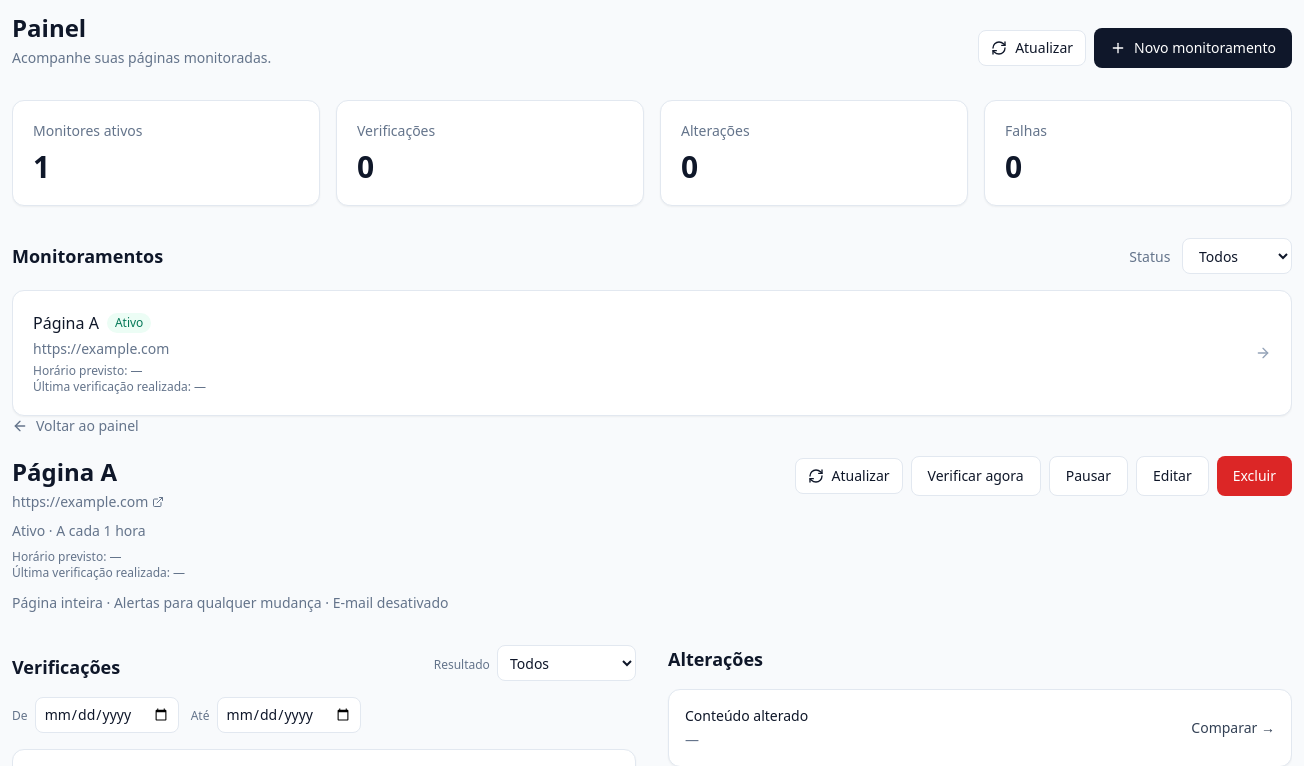
Test case: automatic refresh › removes a deleted monitor from the dashboard
The width and height of the screenshot is (1304, 766).
Step 1. Click the button "Excluir" → (1254, 476), box [1217, 456, 1292, 496]
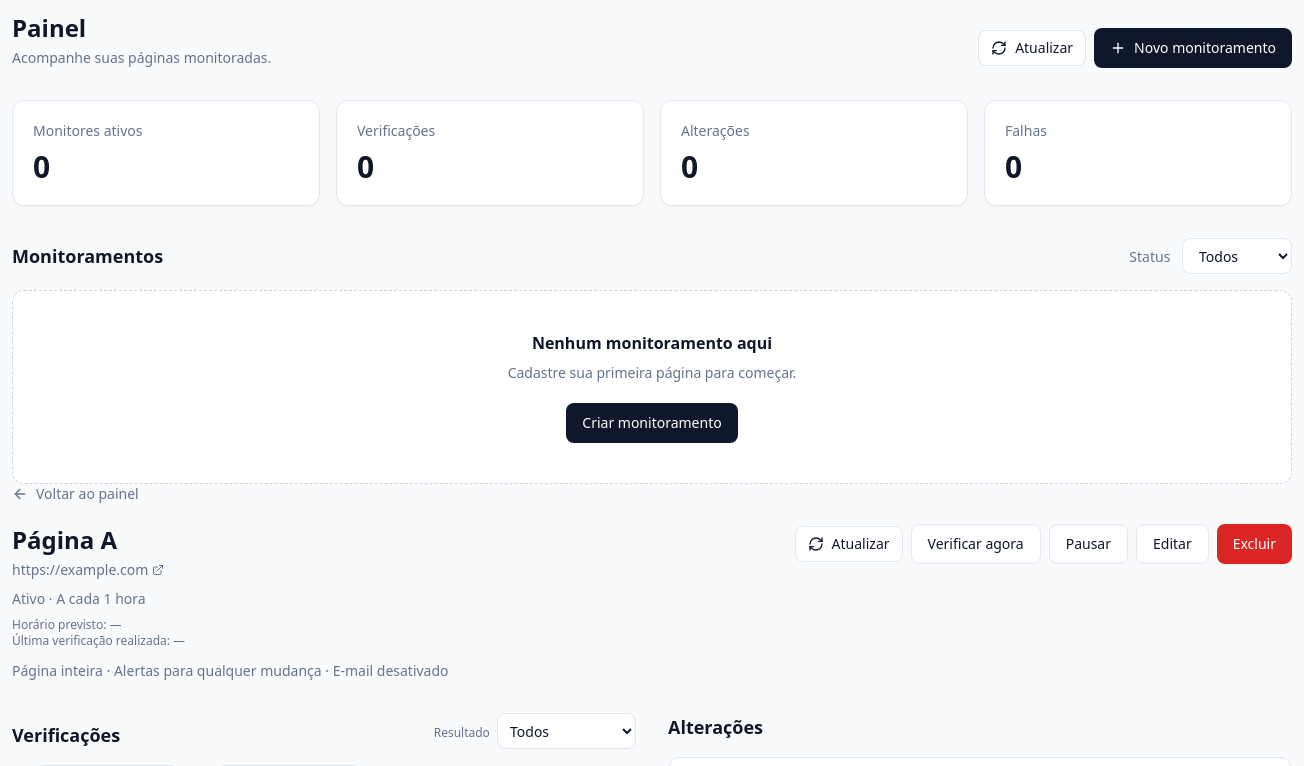
Expected: the heading "Nenhum monitoramento aqui" is shown, [532, 332, 772, 354]
